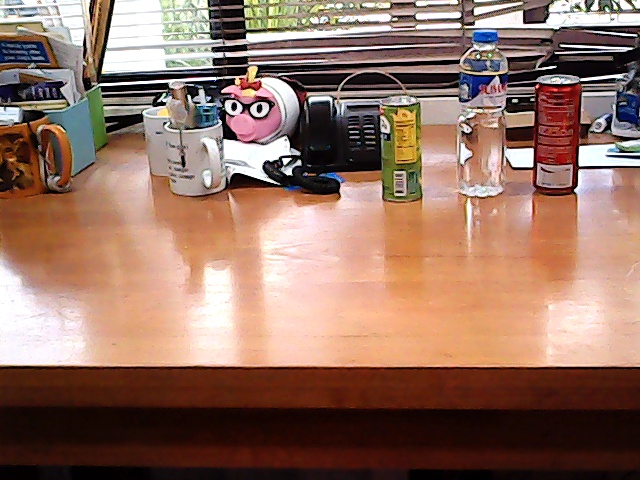Cola: (528, 67, 588, 195)
Pine Juice: (374, 92, 431, 205)
Summit Water: (455, 28, 512, 206)
